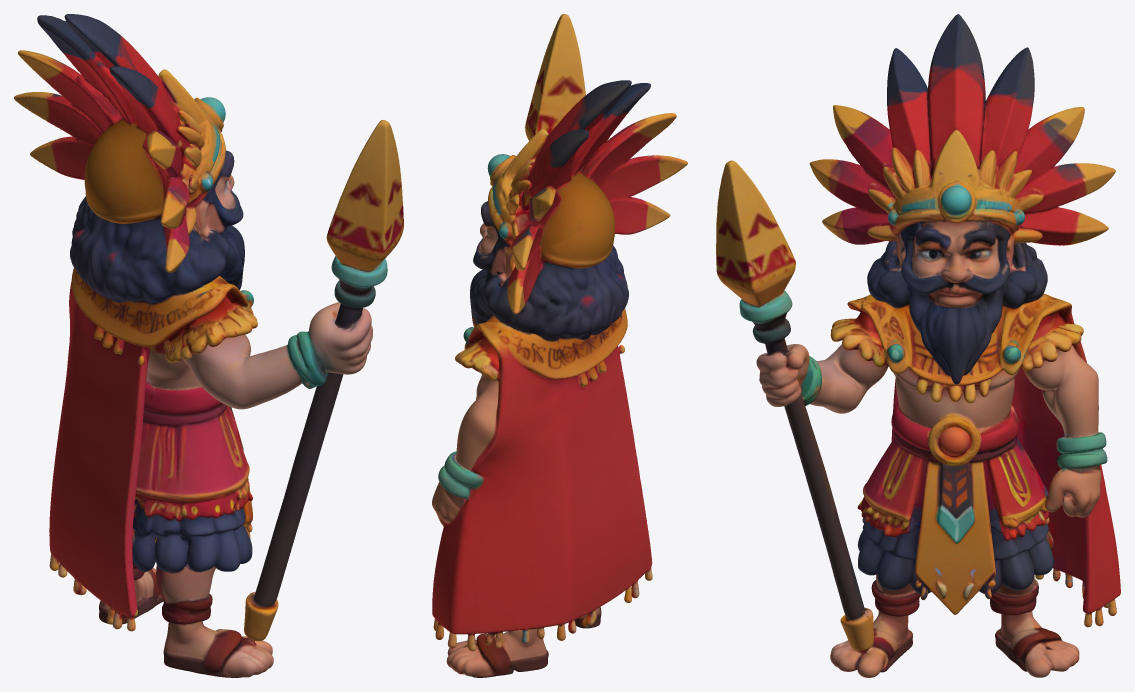
File: royal_envoy 2.glb
3 renders of one model, left to right at view 1: azimuth 30°, elevation 25°; view 2: azimuth 150°, elevation 25°; view 3: azimuth 270°, elevation 25°, orthographic. The views are drawn at different scales.
Visible parts, largest first — view 1: tripo_node_b8801c51-b8a2-42f2-bab3-d6534fc4779c; view 2: tripo_node_b8801c51-b8a2-42f2-bab3-d6534fc4779c; view 3: tripo_node_b8801c51-b8a2-42f2-bab3-d6534fc4779c.
Boxes of the visible parts, <box> form: tripo_node_b8801c51-b8a2-42f2-bab3-d6534fc4779c: <box>14,14,403,677</box>; tripo_node_b8801c51-b8a2-42f2-bab3-d6534fc4779c: <box>432,14,687,677</box>; tripo_node_b8801c51-b8a2-42f2-bab3-d6534fc4779c: <box>716,14,1120,677</box>.
Size of the model in its own units: 0.3698 by 1 by 0.6161.
Materials: 1 (1 with a texture image).
